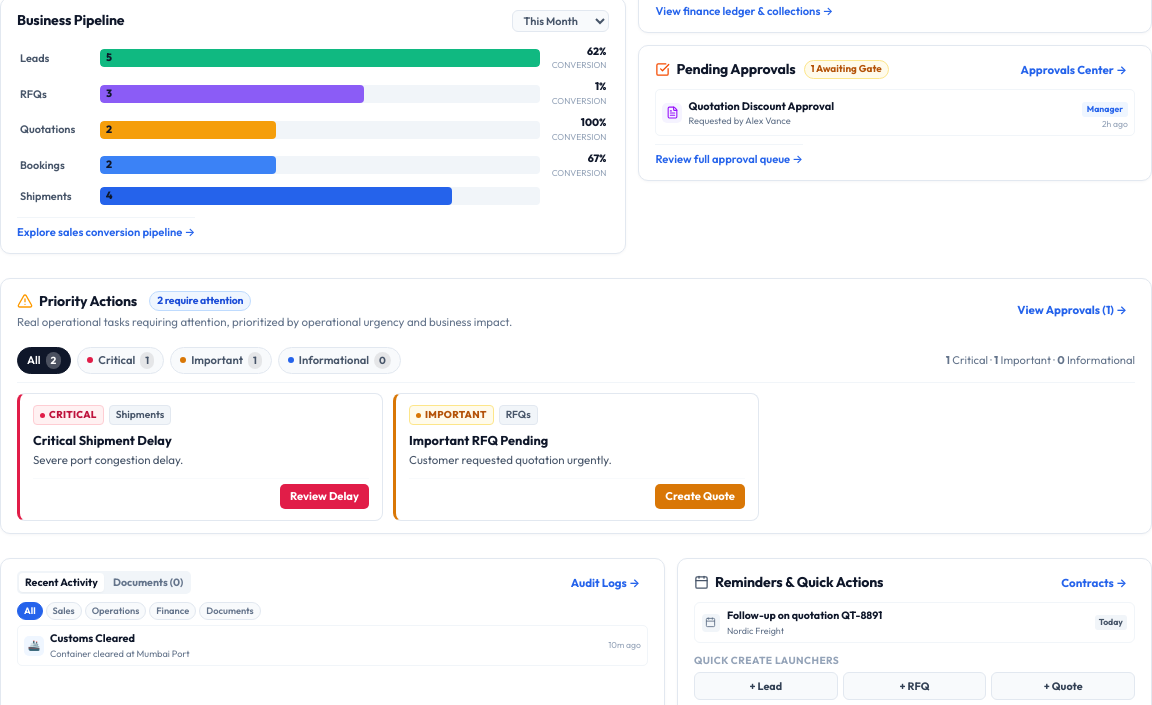
it: OperationalDashboard Component › filters priority items dynamically when urgency tabs are clicked
(page scrolled)
Expected: the heading "Critical Shipment Delay" is shown, [33, 432, 172, 448]
Expected: the heading "Important RFQ Pending" is shown, [409, 432, 548, 448]
Click Critical tab
Click the tab "Critical 1" at (121, 360), box [77, 347, 164, 374]
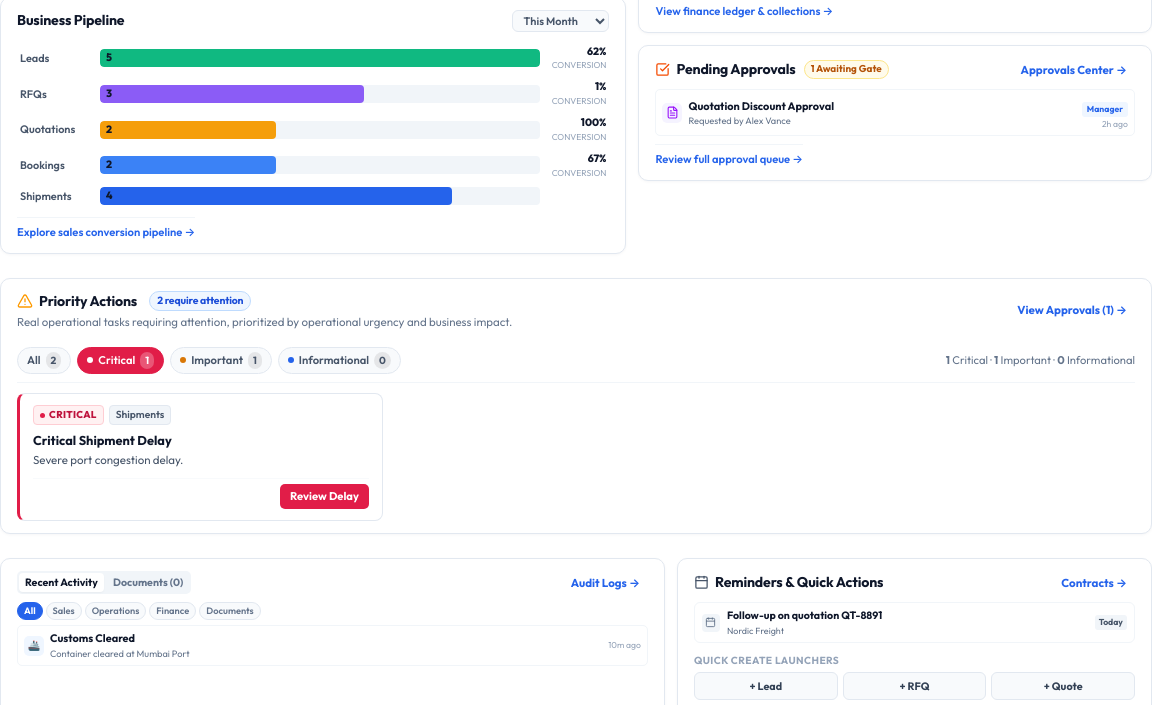
Expected: the heading "Critical Shipment Delay" is shown, [33, 432, 172, 448]
Result: the button "Important RFQ Pending" is gone
Click Important tab
Click the tab "Important 1" at (221, 360), box [170, 347, 272, 374]
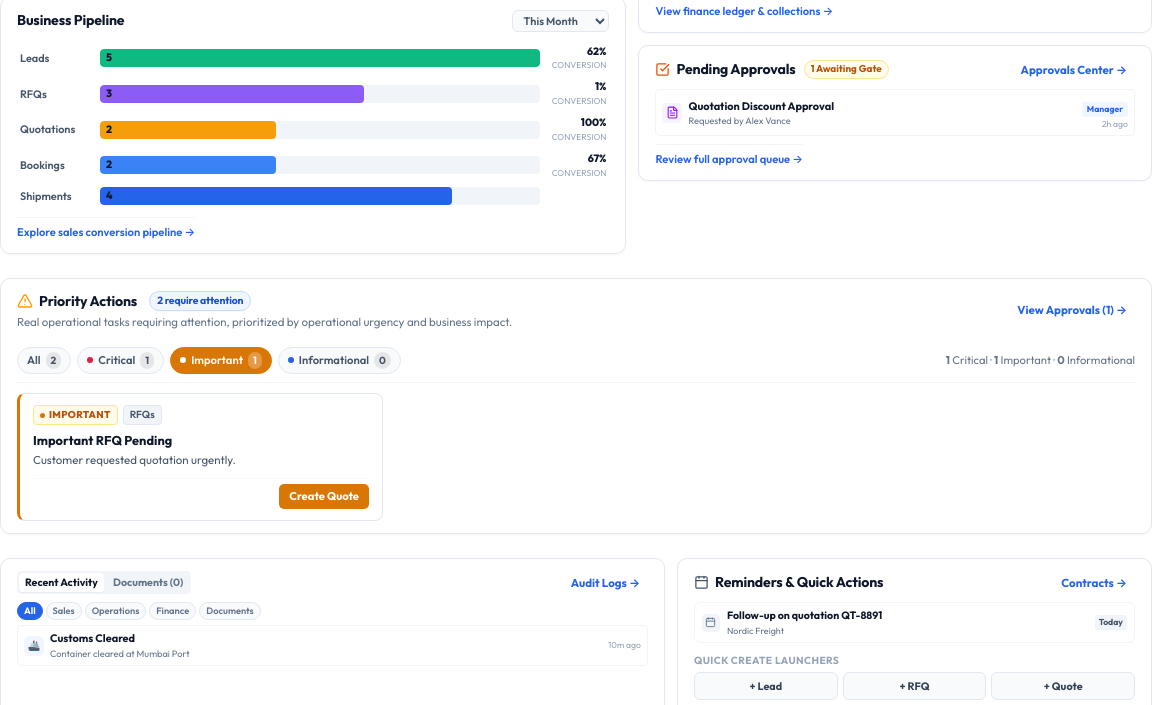
Result: the button "Critical Shipment Delay" is gone
Result: the heading "Important RFQ Pending" is shown at [33, 432, 172, 448]
Click the tab "Informational 0" at (339, 360), box [278, 347, 401, 374]
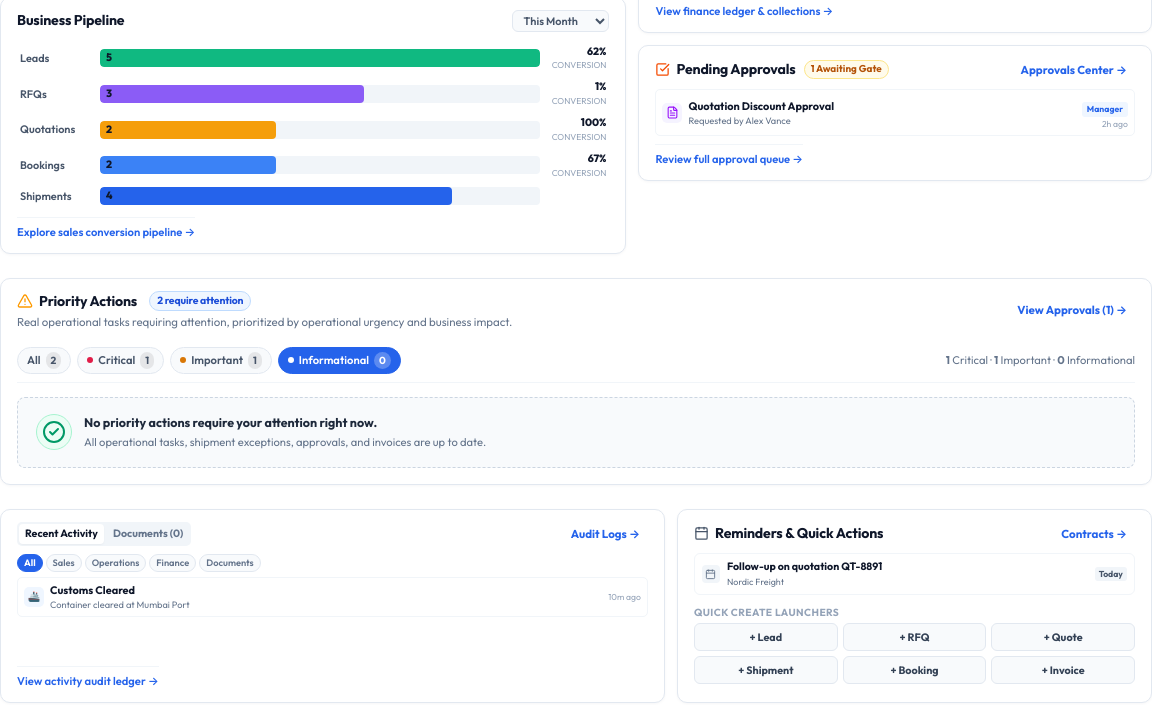
Result: the text "No priority actions require your attention right now." is shown at [84, 415, 377, 430]
Click All tab back
Click the tab "All 2" at (44, 360), box [17, 347, 71, 374]
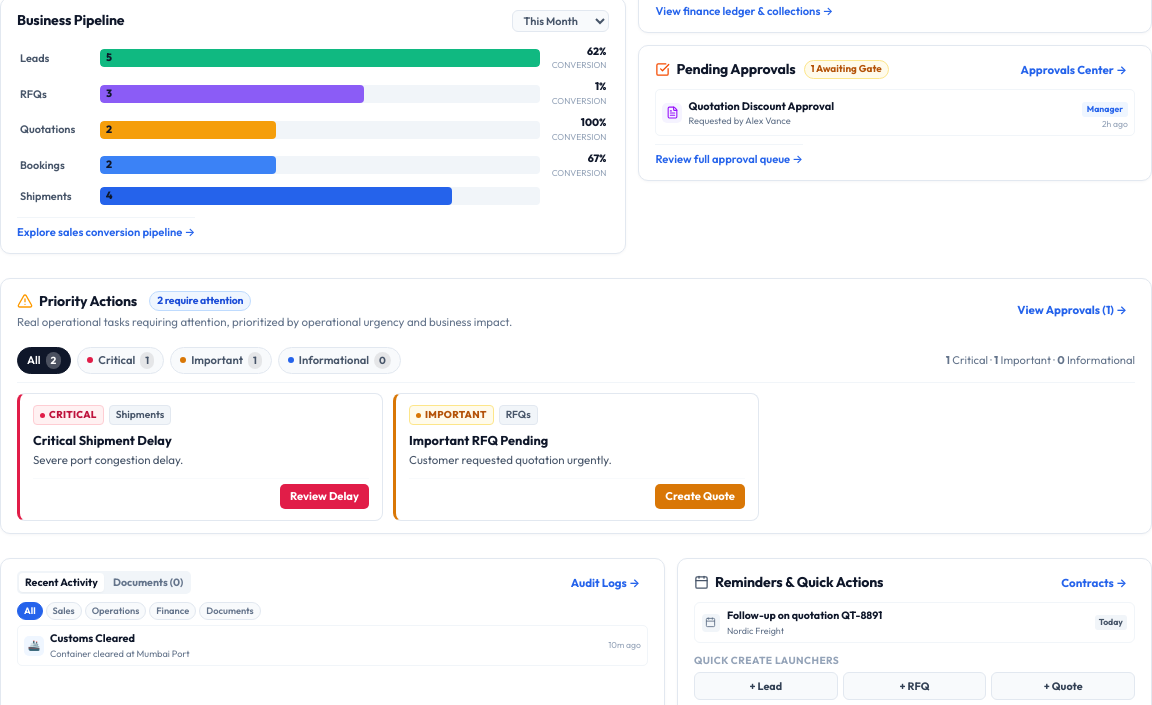
Result: the heading "Critical Shipment Delay" is shown at [33, 432, 172, 448]
Result: the heading "Important RFQ Pending" is shown at [409, 432, 548, 448]
